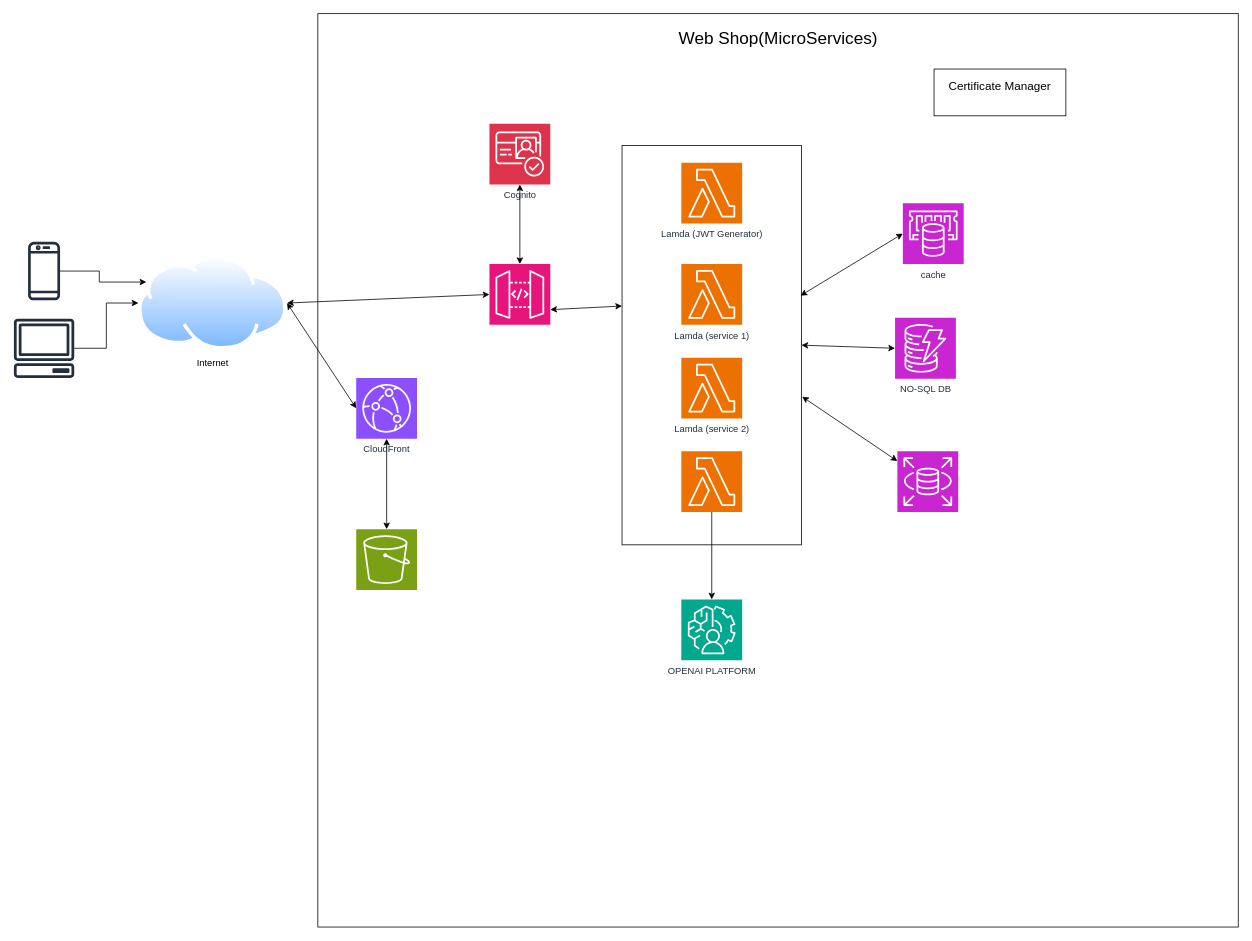
This 1252x941 diagram has some shape labels left out. The shapes that lost their labels are listed below. From the top down, each one's centre as x and y in pixels, then its label:
At [519,294]: "API GATEWAY".
At [43,348]: "Clients".
At [711,481]: "Lamda (Recomendaciones Inteligentes )".
At [927,481]: "SQL DB".
At [386,559]: "S3, almacenamiento de archivos estaticos".
